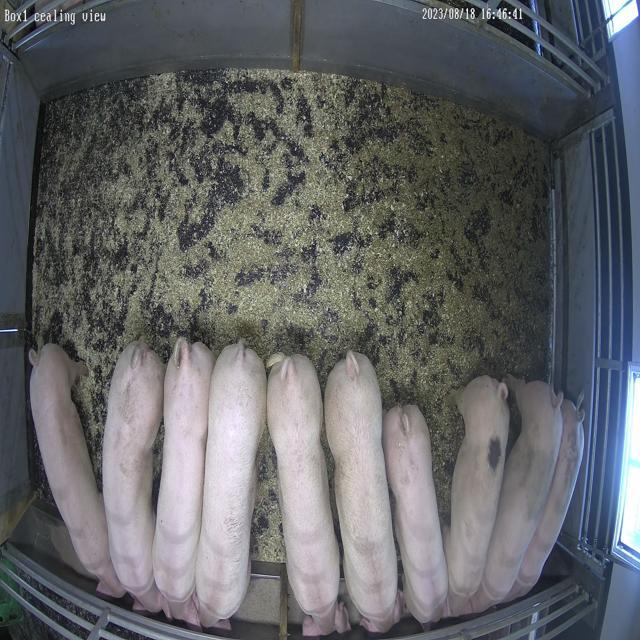Dirt: (32, 69, 551, 514)
Pig: (28, 344, 126, 600), (267, 354, 351, 638), (466, 379, 564, 614), (325, 352, 402, 634), (196, 342, 266, 628), (153, 338, 215, 626), (502, 394, 586, 604), (102, 341, 164, 614), (446, 376, 509, 618), (384, 406, 449, 624)
